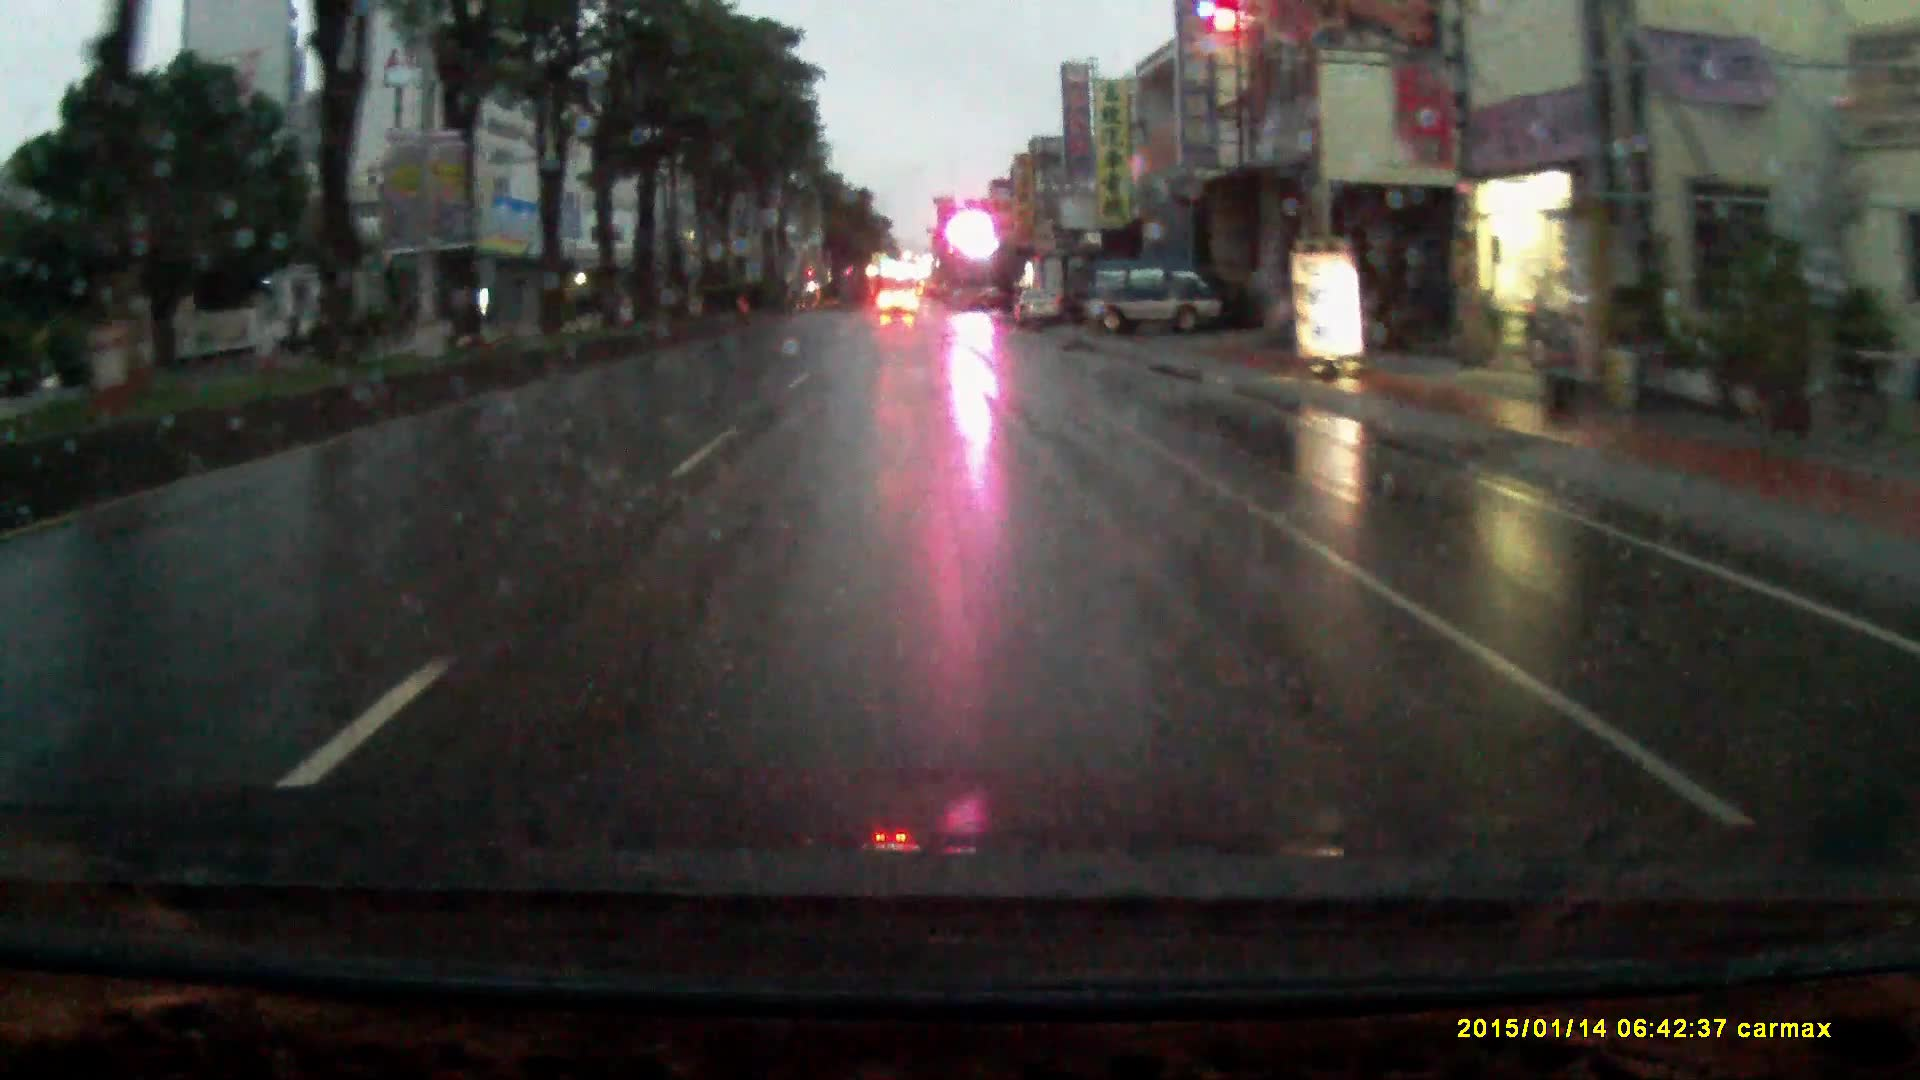vehicle: (1073, 264, 1229, 335), (1025, 245, 1092, 328), (1015, 287, 1065, 332), (877, 282, 919, 313)
